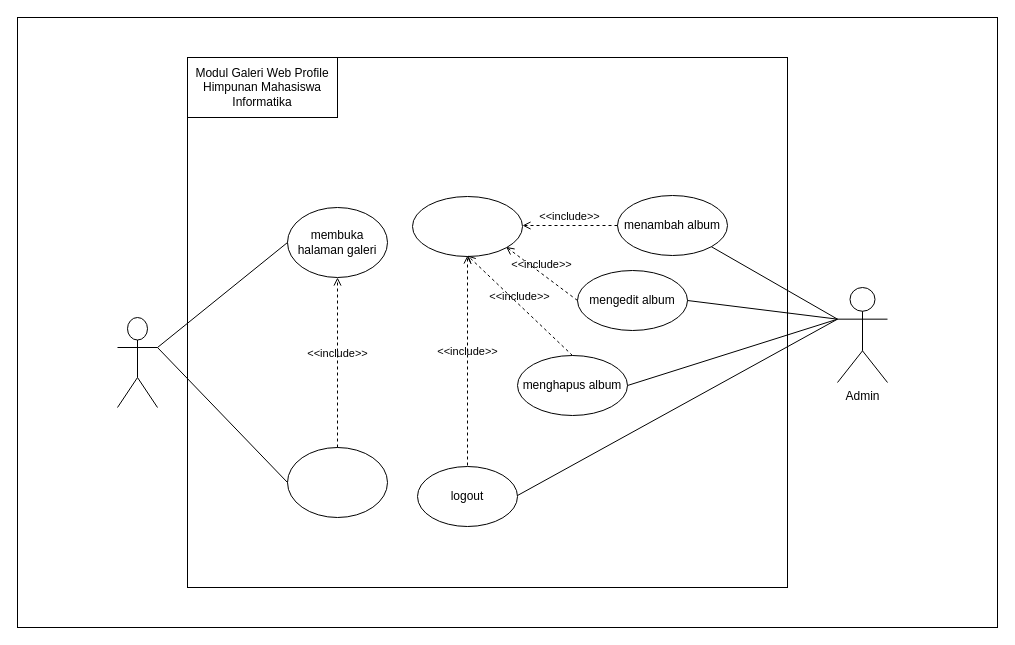
Image size: 1015x645. Some labels were removed from this diagram. Here are the shapes that lost their labels. From the top down, the centre of each, then its label:
[467,226]: login
[137,362]: user
[337,482]: membuka album
